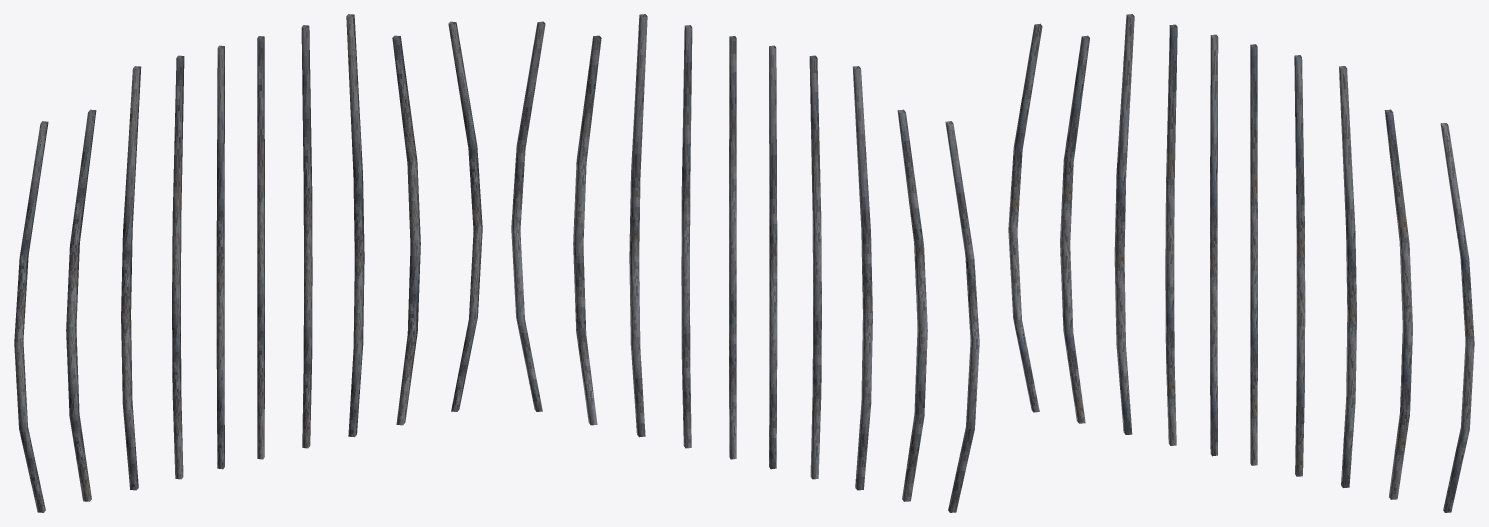
File: EKH_BARRELROOM_ANIM_JA1_GATE_BARS__AI.fbx
3 renders of one model, left to right at view 1: azimuth 30°, elevation 25°; view 2: azimuth 150°, elevation 25°; view 3: azimuth 330°, elevation 25°, orthographic.
Parts seen in each view (by area): view 1: EKH_BARRELROOM_ANIM_JA1_GATE_BARS__AI; view 2: EKH_BARRELROOM_ANIM_JA1_GATE_BARS__AI; view 3: EKH_BARRELROOM_ANIM_JA1_GATE_BARS__AI.
Boxes of the visible parts, left/top/right/bottom form: EKH_BARRELROOM_ANIM_JA1_GATE_BARS__AI: left=14, top=14, right=482, bottom=512; EKH_BARRELROOM_ANIM_JA1_GATE_BARS__AI: left=511, top=14, right=979, bottom=512; EKH_BARRELROOM_ANIM_JA1_GATE_BARS__AI: left=1008, top=14, right=1474, bottom=512.
Bounding box in the file's own units: 37732 × 32376 × 600.
Materials: 1 (1 with a texture image).
